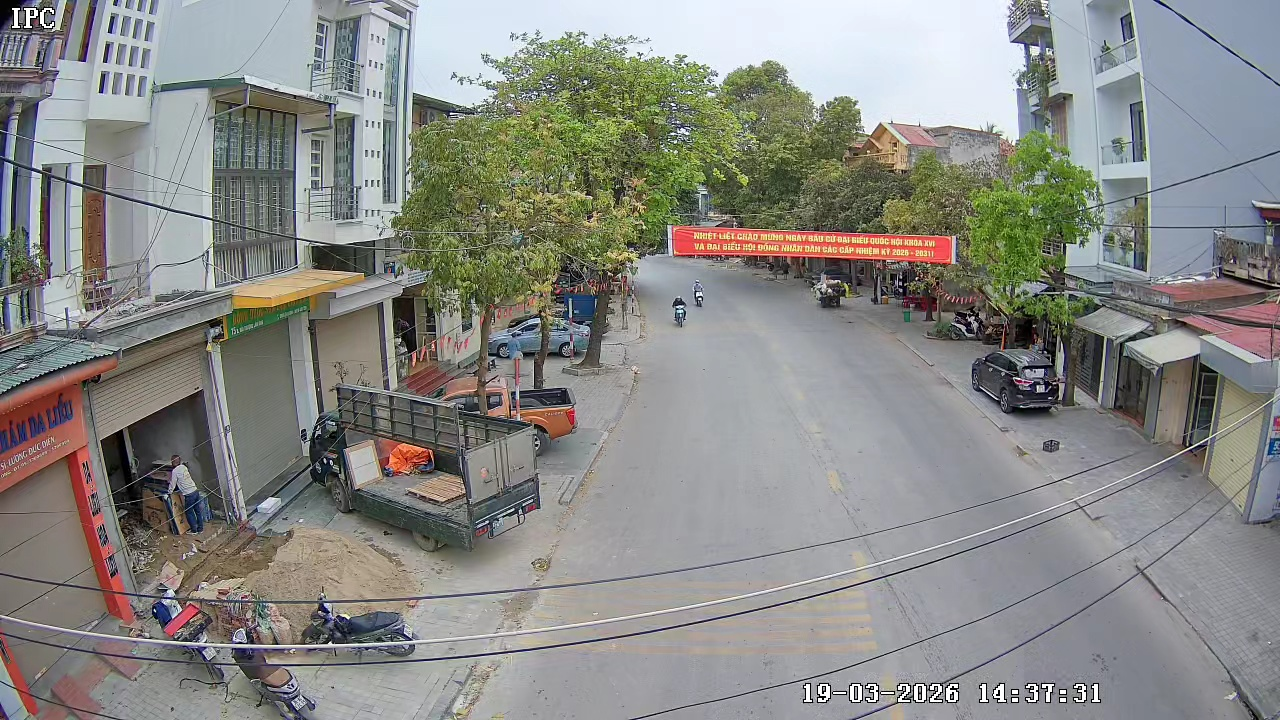car: (511, 384, 578, 451)
motorbike: (671, 295, 688, 327), (691, 287, 706, 308)
